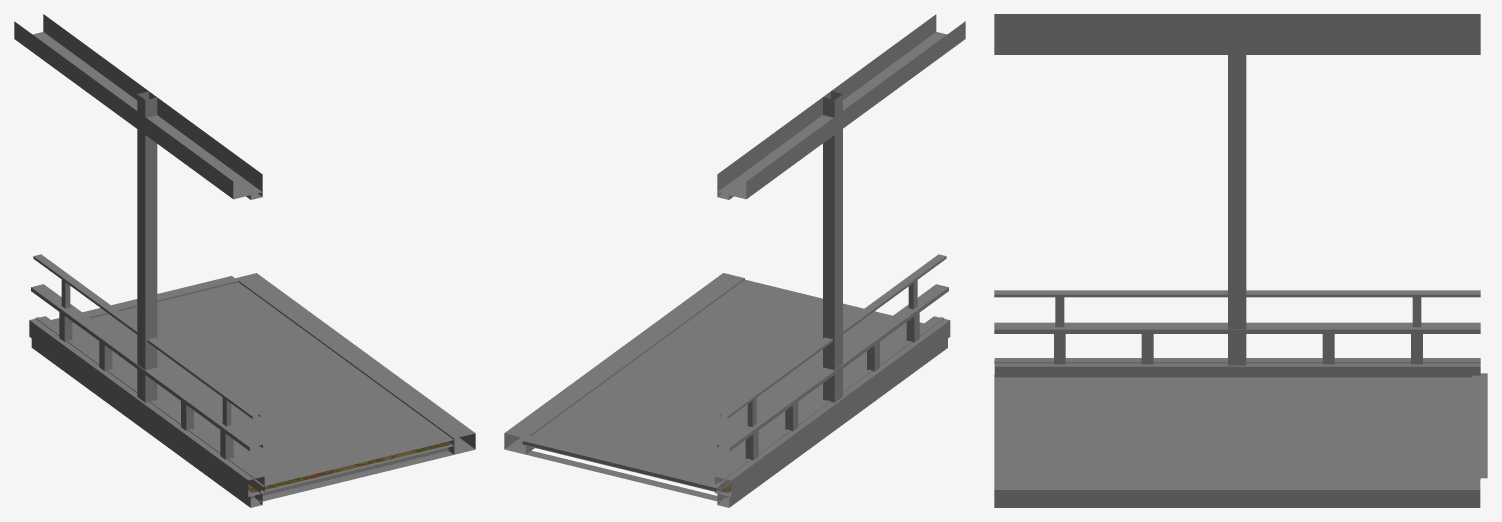
The model's file is Attic_Sides_Floor.fbx.
The picture shows the model from 3 angles, left to right: view 1: azimuth 30°, elevation 25°; view 2: azimuth 150°, elevation 25°; view 3: azimuth 270°, elevation 25°; orthographic projection. The views are drawn at different scales.
Visible parts, largest first — view 1: Attic_Sides_Floor; view 2: Attic_Sides_Floor; view 3: Attic_Sides_Floor.
Boxes of the visible parts, <box> form: Attic_Sides_Floor: <box>14,14,475,507</box>; Attic_Sides_Floor: <box>504,14,965,507</box>; Attic_Sides_Floor: <box>994,14,1487,507</box>.
Bounding box in the file's own units: 319 × 416 × 508.
